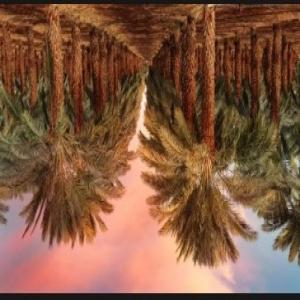palm tree: (0, 15, 148, 248)
